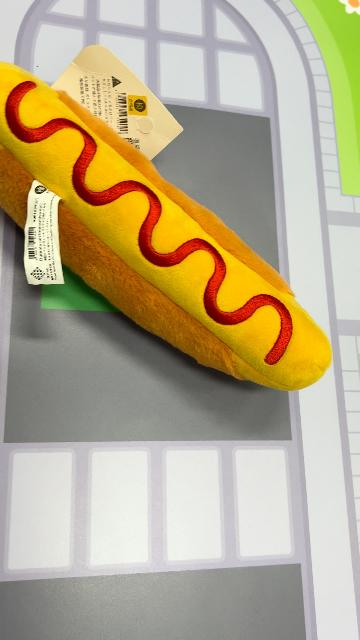hotdog: (2, 61, 334, 393)
